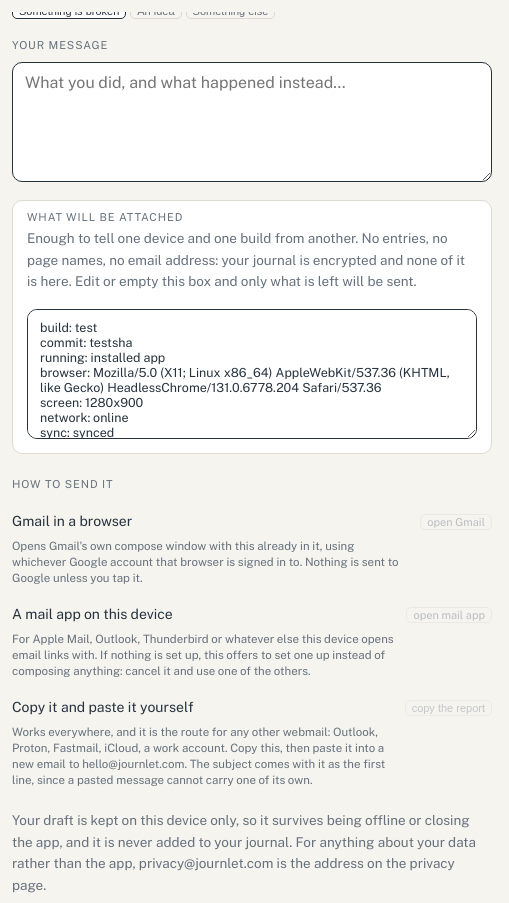
Test: what it claims afterwards › each route says what it actually did
This screenshot has width=509, height=903.
(page scrolled)
In the text box named "Your message": (252, 122) [12,62,492,182], type "a thought"
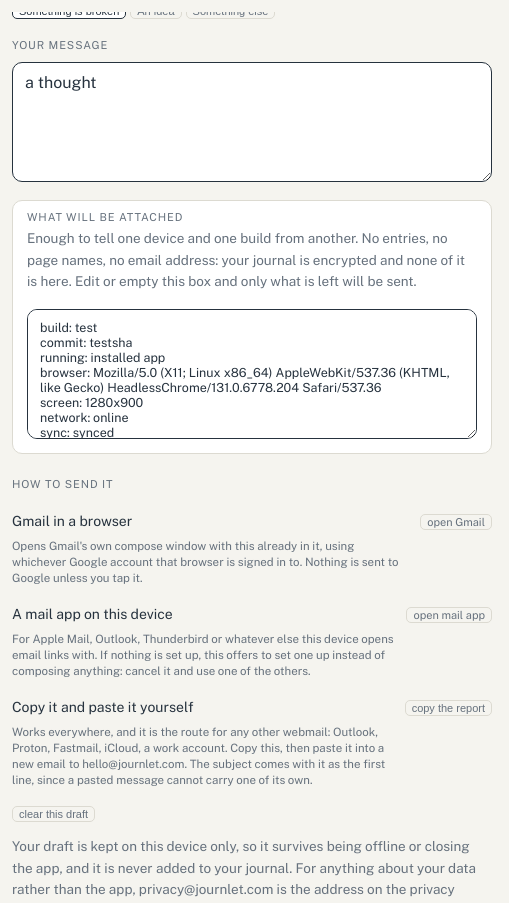
Click the link "open Gmail": click(456, 522) [420,514,492,530]
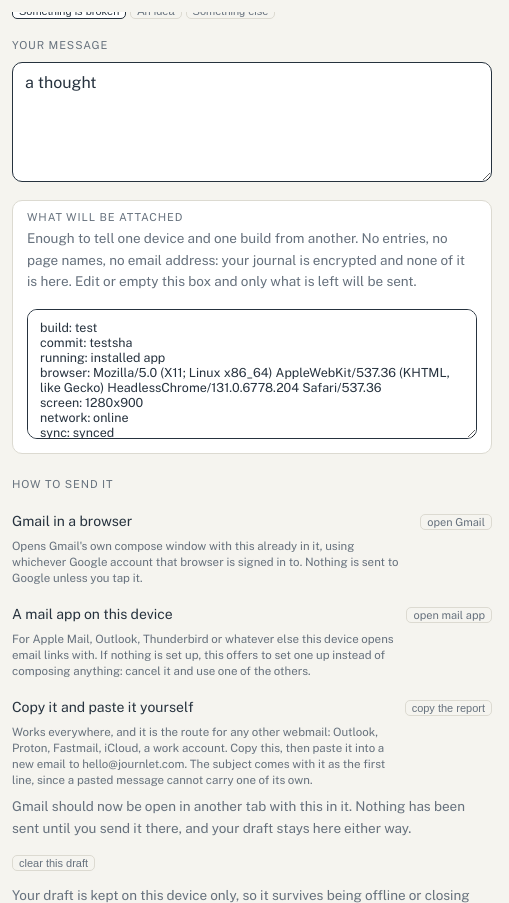
Check: the text "Gmail should now be open in another tab" is shown, box [12,798,465,836]
